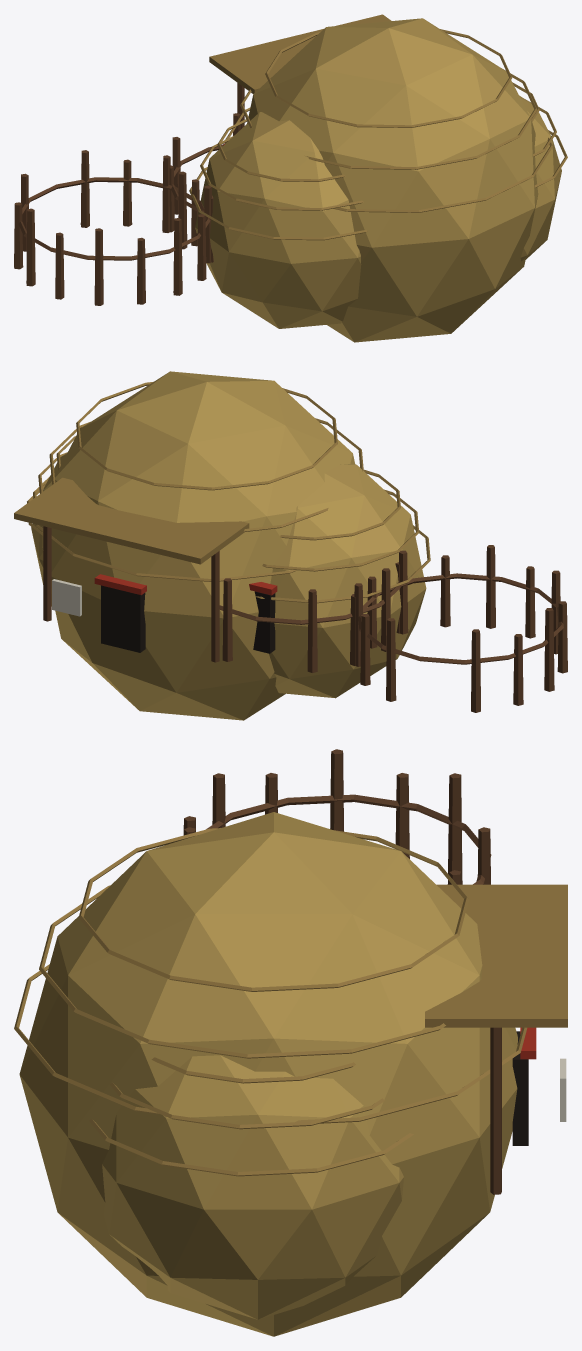
File: elephant_row_broken.glb
3 views of the same model, one above another, from view 1: azimuth 30°, elevation 25°; view 2: azimuth 150°, elevation 25°; view 3: azimuth 270°, elevation 25° (orthographic). The views are drawn at different scales.
Parts seen in each view (by area): view 1: elephant_row_piece5, elephant_row_piece3, elephant_row_piece7, elephant_row_piece6, elephant_row_piece4, elephant_row_piece0, elephant_row_piece1, elephant_row_piece13, elephant_row_piece10, elephant_row_piece11; view 2: elephant_row_piece4, elephant_row_piece1, elephant_row_piece6, elephant_row_piece11, elephant_row_piece7, elephant_row_piece9, elephant_row_piece2, elephant_row_piece12, elephant_row_piece3, elephant_row_piece13, elephant_row_piece10, elephant_row_piece5; view 3: elephant_row_piece13, elephant_row_piece11, elephant_row_piece0, elephant_row_piece4, elephant_row_piece5, elephant_row_piece2, elephant_row_piece7, elephant_row_piece6, elephant_row_piece1, elephant_row_piece9, elephant_row_piece8, elephant_row_piece10.
Part boxes in pixels (x1,y1,x2,y2): elephant_row_piece5: (338, 79, 534, 328); elephant_row_piece3: (175, 139, 411, 342); elephant_row_piece7: (216, 26, 467, 248); elephant_row_piece6: (14, 95, 304, 305); elephant_row_piece4: (190, 14, 391, 192); elephant_row_piece0: (427, 58, 543, 207); elephant_row_piece1: (33, 48, 244, 265); elephant_row_piece13: (501, 69, 567, 272); elephant_row_piece10: (397, 240, 455, 338); elephant_row_piece11: (358, 18, 505, 70); elephant_row_piece4: (14, 413, 371, 633); elephant_row_piece1: (106, 548, 458, 701); elephant_row_piece6: (306, 449, 567, 712); elephant_row_piece11: (26, 371, 195, 569); elephant_row_piece7: (183, 372, 430, 601); elephant_row_piece9: (85, 563, 397, 707); elephant_row_piece2: (43, 526, 413, 703); elephant_row_piece12: (150, 599, 415, 720); elephant_row_piece3: (340, 444, 450, 655); elephant_row_piece13: (27, 421, 94, 669); elephant_row_piece10: (88, 662, 165, 713); elephant_row_piece5: (282, 388, 358, 448); elephant_row_piece13: (72, 1018, 439, 1336); elephant_row_piece11: (185, 843, 535, 1207); elephant_row_piece0: (51, 872, 259, 1144); elephant_row_piece4: (268, 812, 567, 1121); elephant_row_piece5: (14, 846, 250, 1329); elephant_row_piece2: (425, 1025, 536, 1255); elephant_row_piece7: (143, 814, 338, 912); elephant_row_piece6: (183, 749, 470, 884); elephant_row_piece1: (449, 827, 567, 910); elephant_row_piece9: (490, 1057, 560, 1209); elephant_row_piece8: (404, 1141, 446, 1233); elephant_row_piece10: (138, 1251, 444, 1325).
Bounding box in the file's own units: 3.76 × 2.18 × 2.26.
